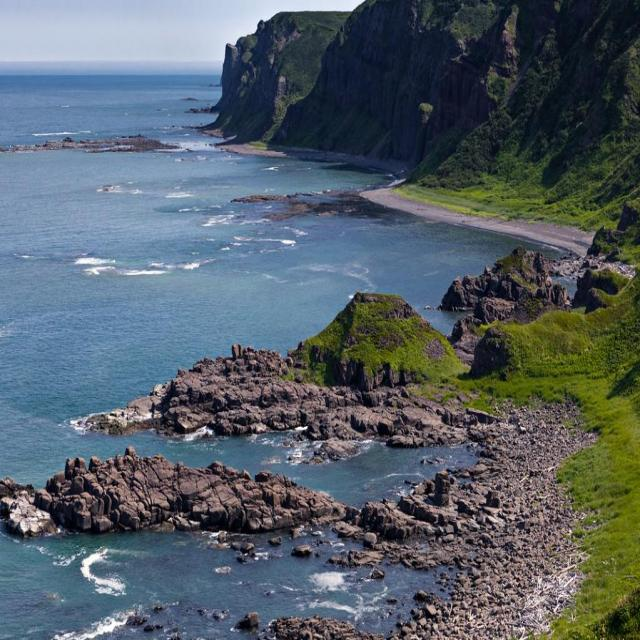reef: (90, 282, 472, 469), (16, 433, 326, 568)
